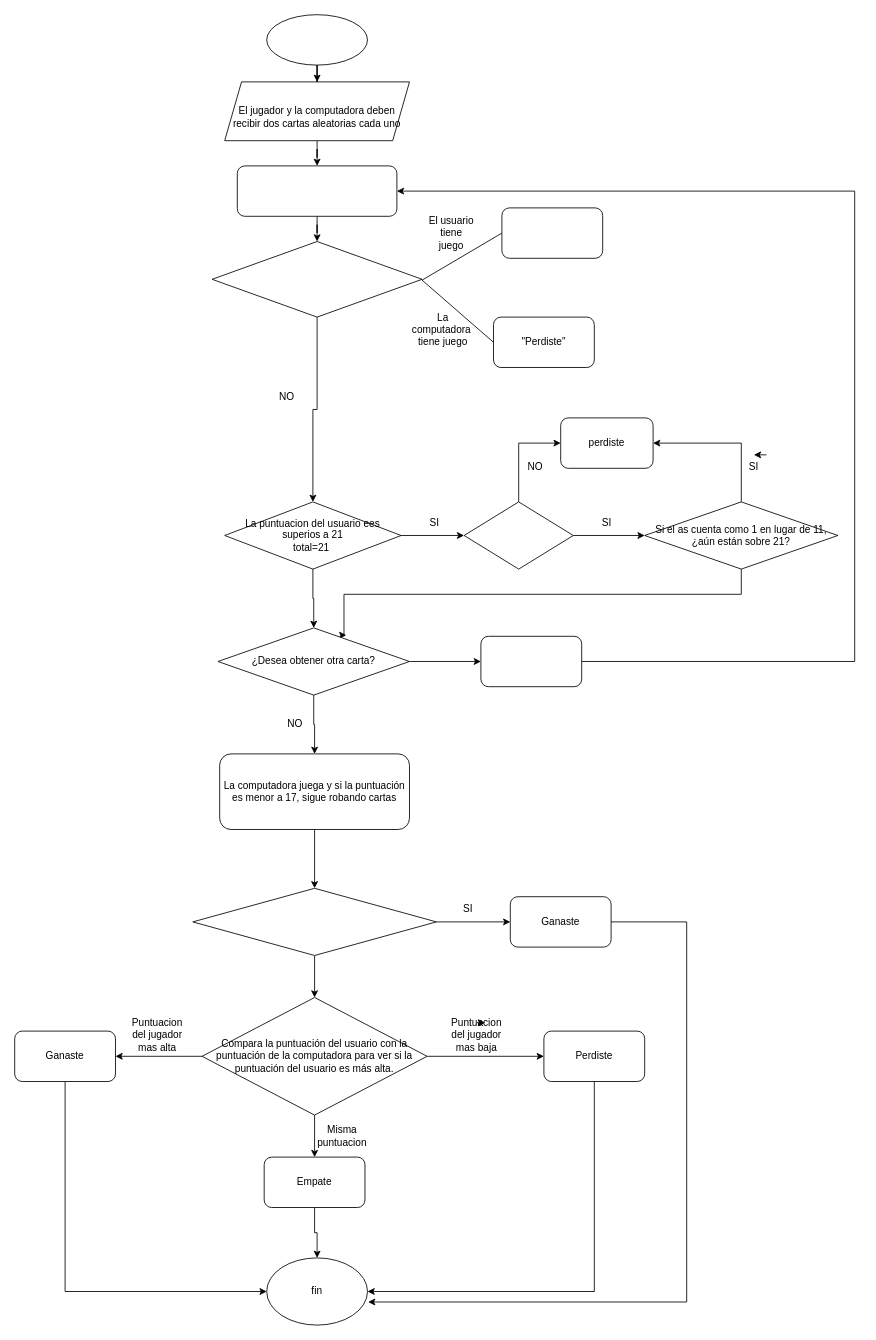
Image size: 876x1340. Some labels were removed from this diagram. The shapes that lost their labels are listed below. From the top down, each one's box as (x1, y1, x2, y2) in pixels, then its label:
(266, 14, 368, 65): inicio
(236, 165, 397, 216): Sumar las puntuaciones del usuario y de la computadora
(501, 207, 603, 258): "Ganaste"
(211, 241, 422, 317): ¿El usuario y la computadora cuentan con juego? (as>=10)
(463, 501, 573, 569): Tienen un "as"
(480, 635, 582, 687): Roba otra carta
(192, 887, 436, 956): ¿La computadora supero los 21?
